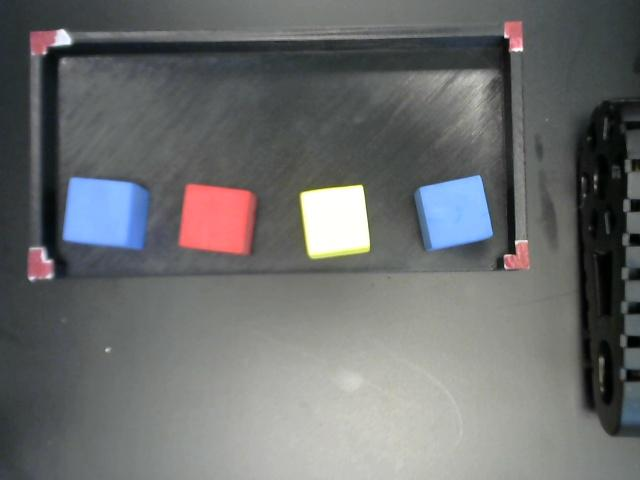cube: (62, 176, 149, 251), (417, 174, 493, 253), (301, 185, 374, 259), (181, 185, 255, 254)
